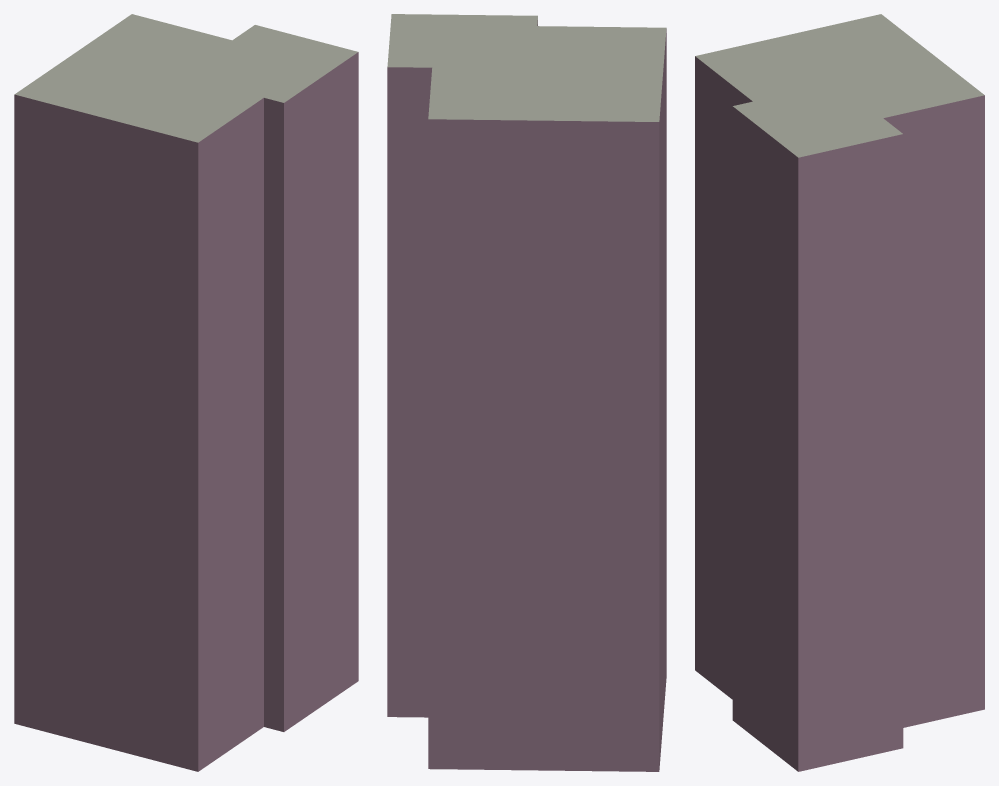
File: nyc-1076844-0.glb
The picture shows the model from 3 angles, left to right: view 1: azimuth 30°, elevation 25°; view 2: azimuth 150°, elevation 25°; view 3: azimuth 270°, elevation 25°; orthographic projection. The views are drawn at different scales.
Parts seen in each view (by area): view 1: nyc-1076844-0; view 2: nyc-1076844-0; view 3: nyc-1076844-0.
Boxes of the visible parts, box(x1,y1,x2,y2) form: nyc-1076844-0: box(14, 14, 358, 771); nyc-1076844-0: box(387, 14, 666, 771); nyc-1076844-0: box(695, 14, 984, 771).
Bounding box in the file's own units: 87.96 × 175 × 74.97.
